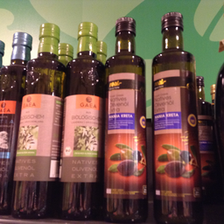oil: (149, 12, 202, 222), (11, 23, 65, 219), (57, 22, 106, 219), (104, 17, 150, 222)
